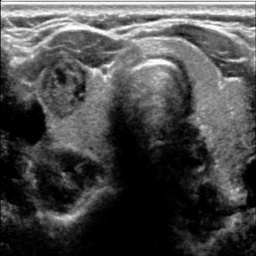mass: (36, 51, 88, 115)
